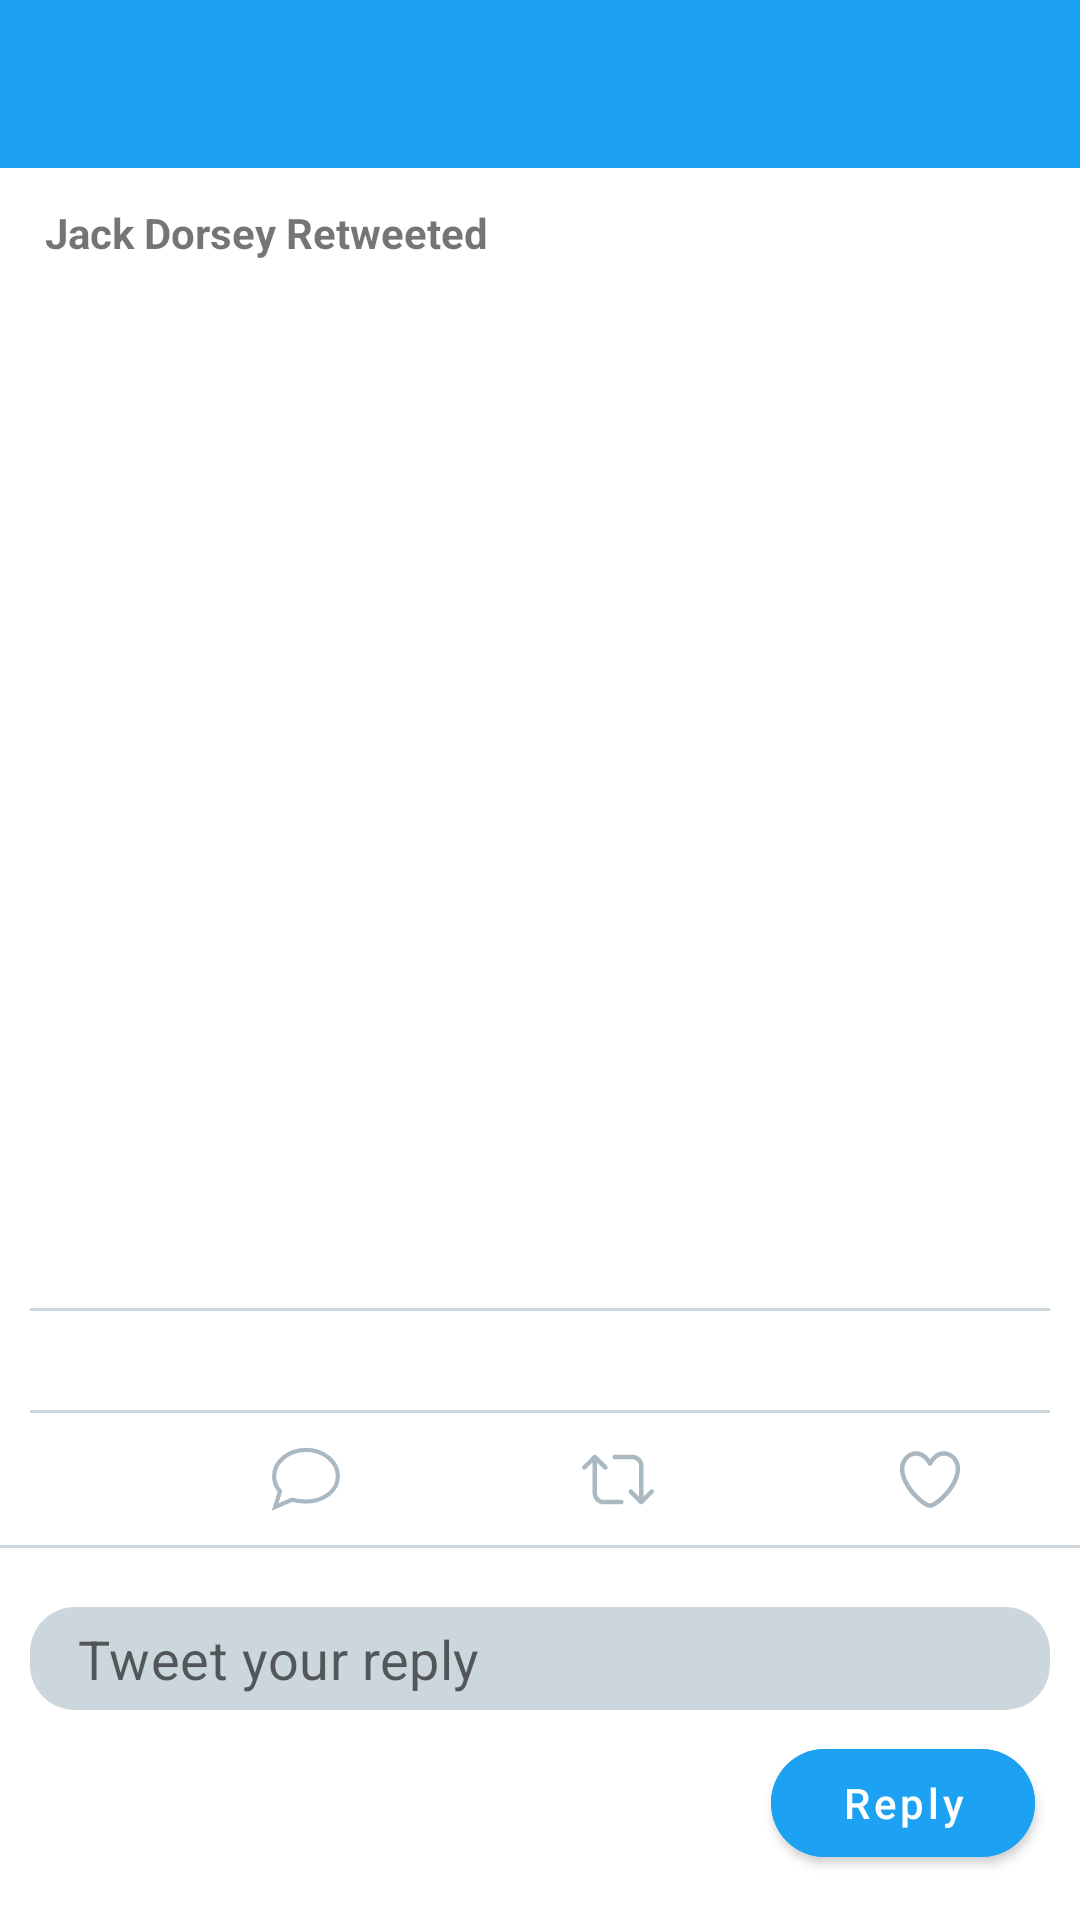

Named icons in this screenshot (1080 × 1920) and their bounding boxes, (x1, y1, x2, y2):
heart stroke: (900, 1451, 960, 1508)
retweet stroke: (582, 1455, 654, 1504)
